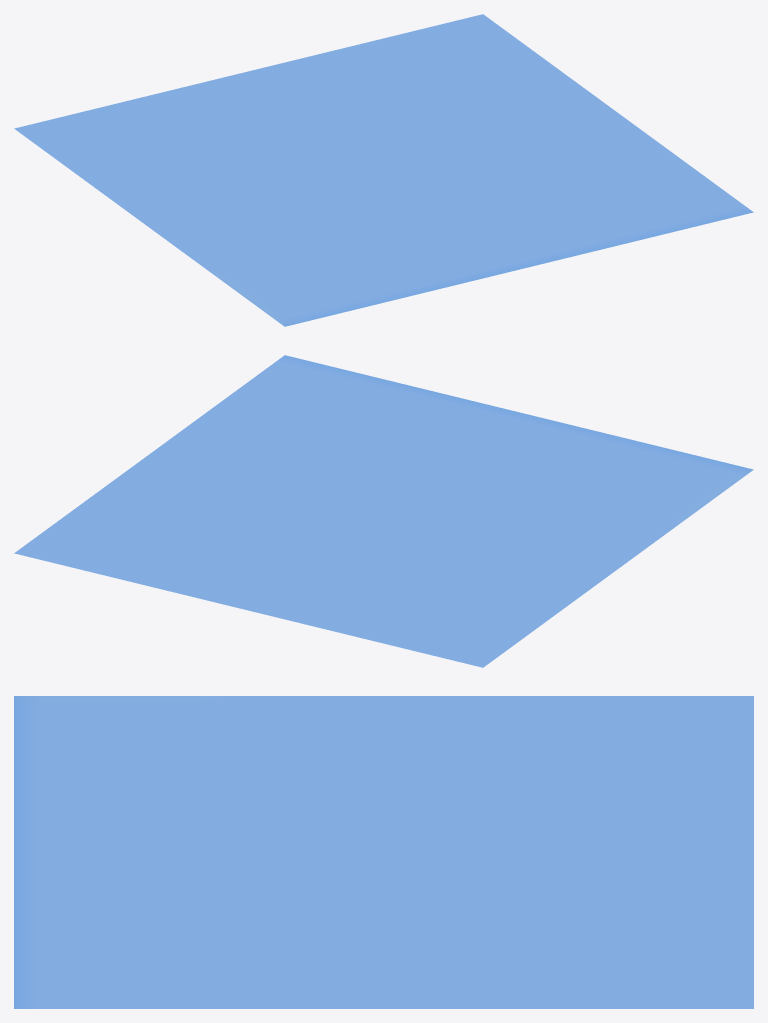
The model's file is Floor #849123.fbx.
The picture shows the model from 3 angles, top to bottom: view 1: azimuth 30°, elevation 25°; view 2: azimuth 150°, elevation 25°; view 3: azimuth 270°, elevation 25°; orthographic projection. The views are drawn at different scales.
Parts seen in each view (by area): view 1: Floor; view 2: Floor; view 3: Floor.
Boxes of the visible parts, x1=… form: Floor: x1=14, y1=14, x2=753, y2=326; Floor: x1=14, y1=355, x2=753, y2=667; Floor: x1=14, y1=696, x2=753, y2=1008.
Size of the model in its own units: 2200 by 9.16e-05 by 2200.
Materials: 1 (1 with a texture image).
